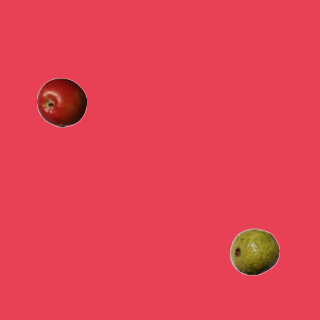Apple Braeburn: (36, 77, 86, 127)
Guava: (229, 226, 279, 276)
